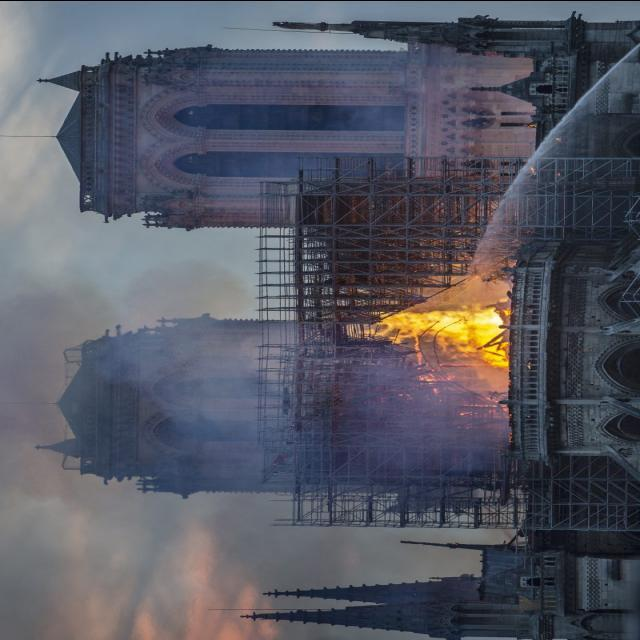Fire: (372, 279, 526, 380)
